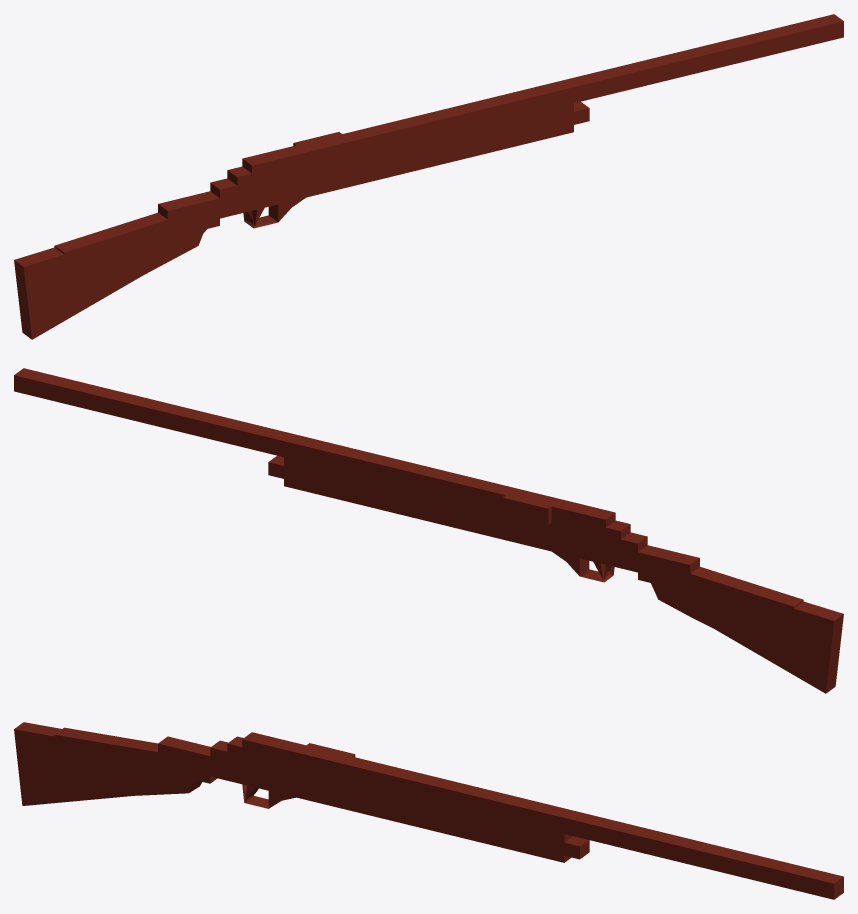
The model's file is shotgun.fbx.
3 views of the same model, one above another, from view 1: azimuth 30°, elevation 25°; view 2: azimuth 150°, elevation 25°; view 3: azimuth 330°, elevation 25° (orthographic).
Parts seen in each view (by area): view 1: Cube; view 2: Cube; view 3: Cube.
Boxes of the visible parts, x1,y1,x2,y2 form: Cube: (14,14,843,339); Cube: (14,368,843,693); Cube: (14,722,843,899).
Size of the model in its own units: 490 by 68.85 by 13.44.
